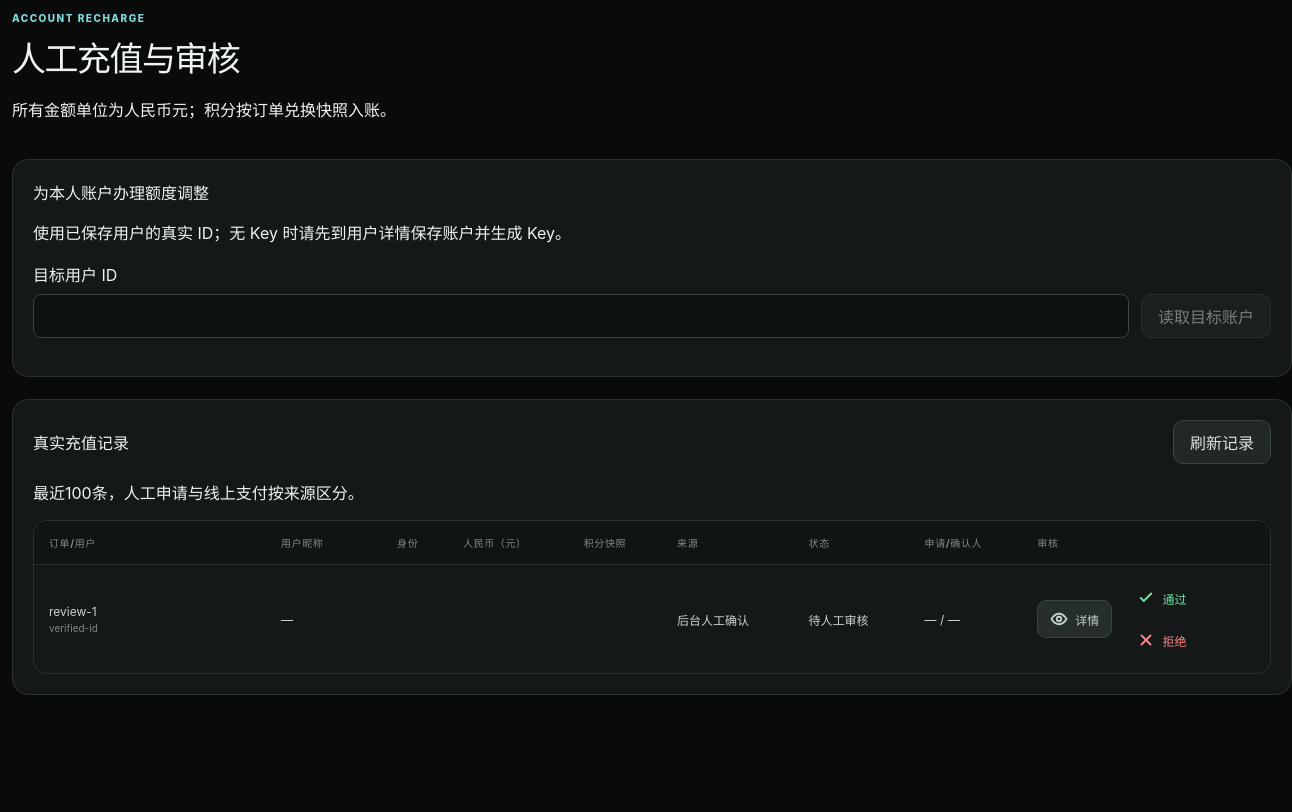
Test: keeps records visible if nickname lookup fails and retains failed review for retry
Step 1. Click the button "拒绝" → [1162, 640], box [1124,621,1199,659]
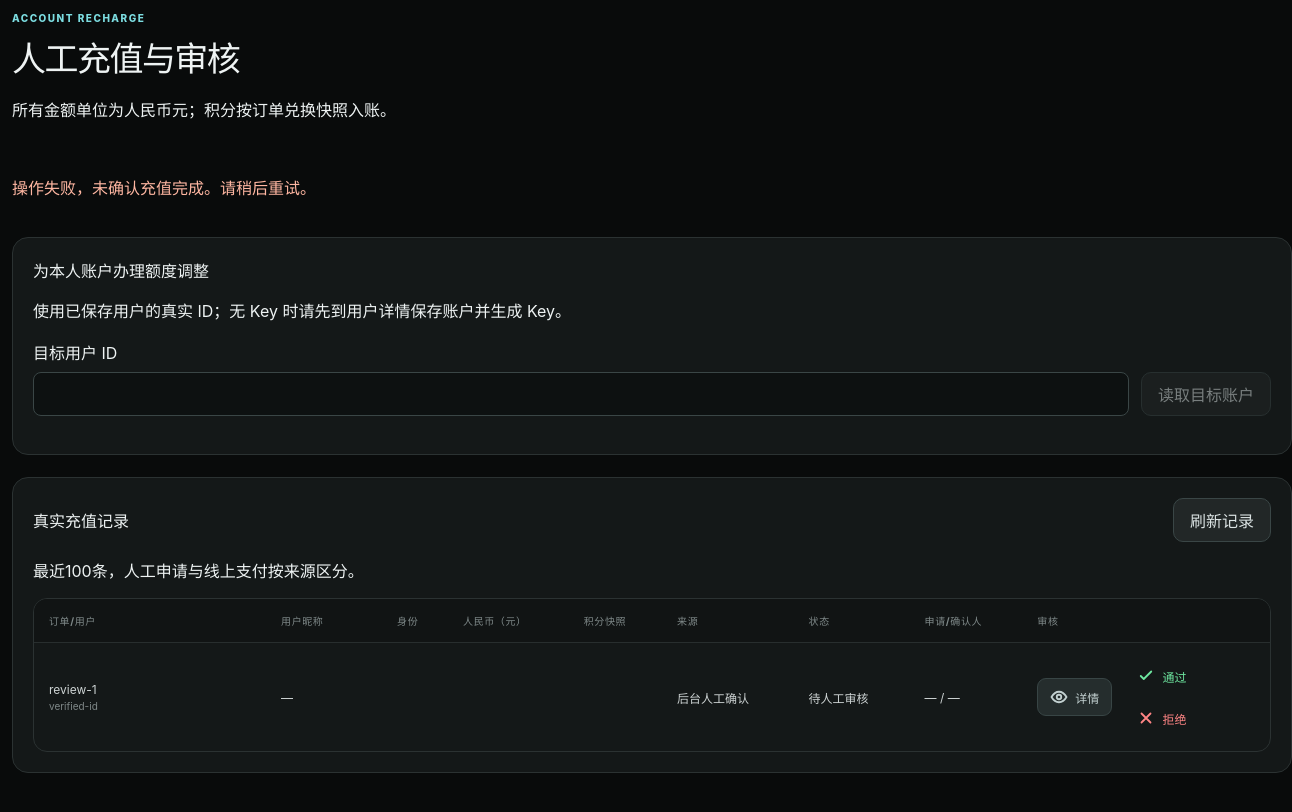
Check: the button "拒绝" is enabled, box [1124,699,1199,737]
Check: the message "操作失败，未确认充值完成。请稍后重试。" is shown, box [12,178,316,198]
